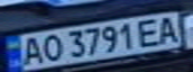1: (115, 20, 139, 50)
3: (63, 28, 87, 58)
7: (81, 25, 103, 56)
9: (100, 23, 121, 53)
A: (151, 14, 184, 45), (15, 34, 45, 68)
E: (133, 16, 163, 47)
O: (36, 33, 66, 63)
